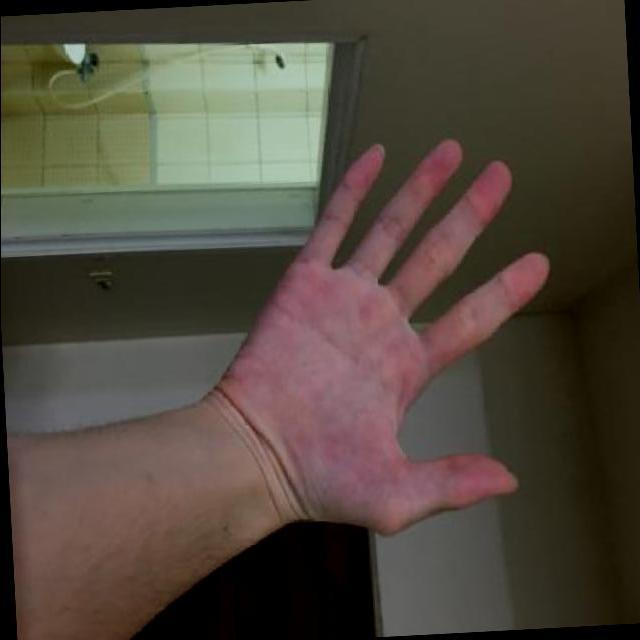Hand: (197, 135, 553, 555)
